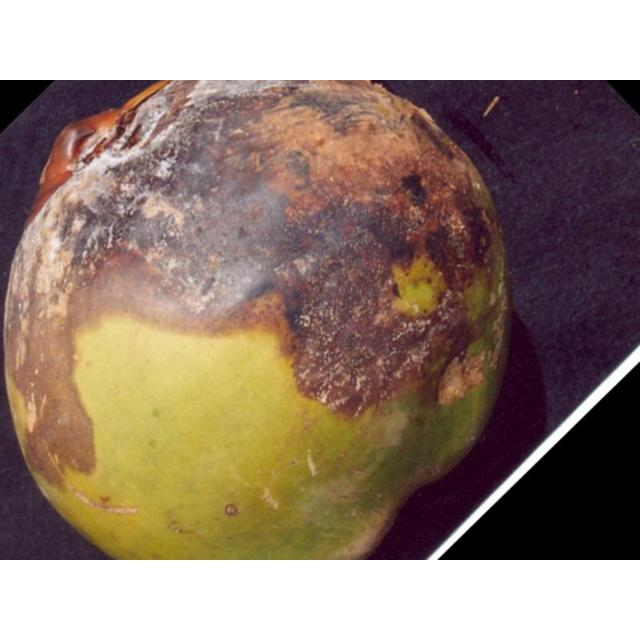damaged: (0, 80, 514, 559)
